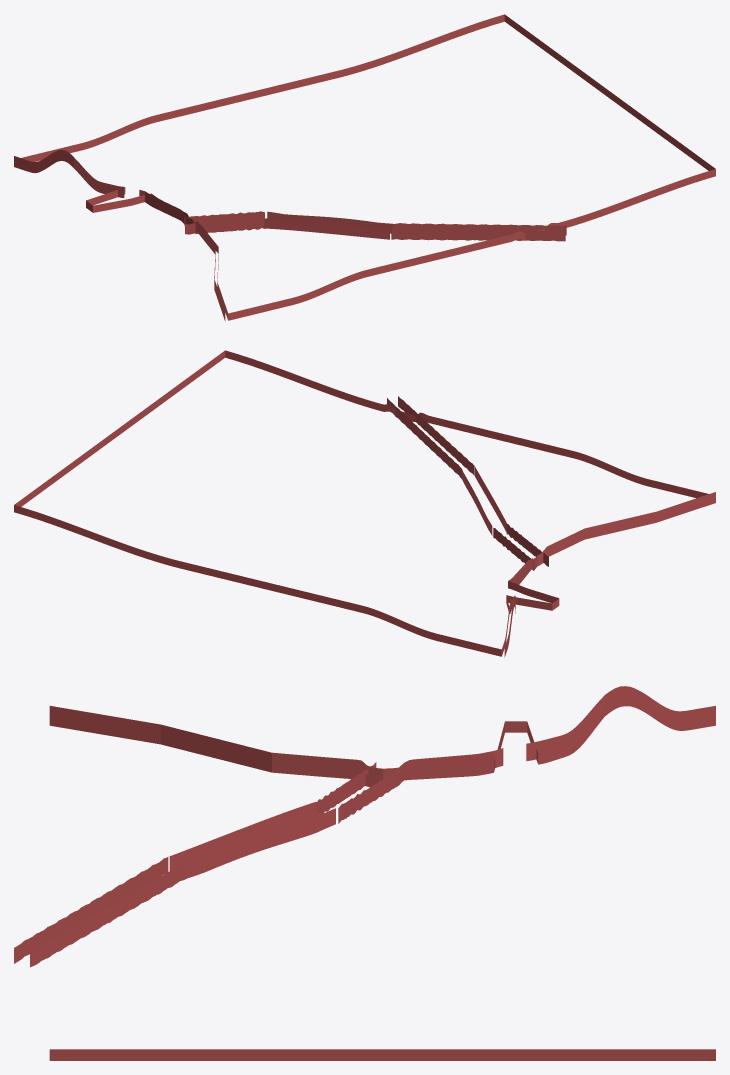
File: town_safety.glb
3 views of the same model, one above another, from view 1: azimuth 30°, elevation 25°; view 2: azimuth 150°, elevation 25°; view 3: azimuth 270°, elevation 25° (orthographic). The views are drawn at different scales.
Bounding box in the file's own units: 161 × 11.94 × 126.
